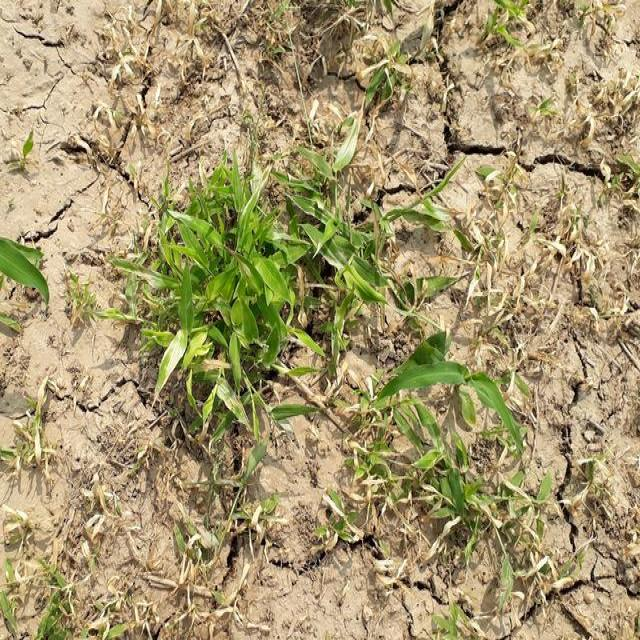weed: (86, 146, 364, 438), (385, 310, 526, 472)
